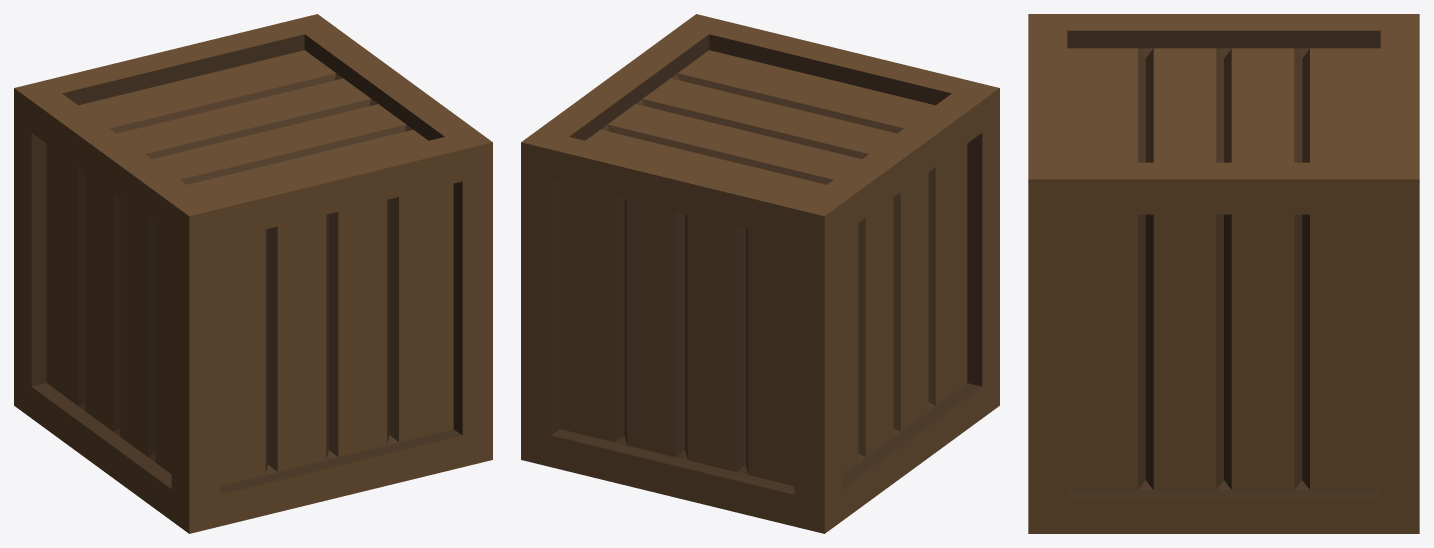
File: crate01.fbx
3 renders of one model, left to right at view 1: azimuth 30°, elevation 25°; view 2: azimuth 150°, elevation 25°; view 3: azimuth 270°, elevation 25°, orthographic. The views are drawn at different scales.
Parts seen in each view (by area): view 1: crate01; view 2: crate01; view 3: crate01.
Part boxes in pixels (box(x1,y1,x2,y2)): crate01: box(14, 14, 492, 533); crate01: box(521, 14, 999, 533); crate01: box(1028, 14, 1419, 533).
Bounding box in the file's own units: 100 × 100 × 100.
